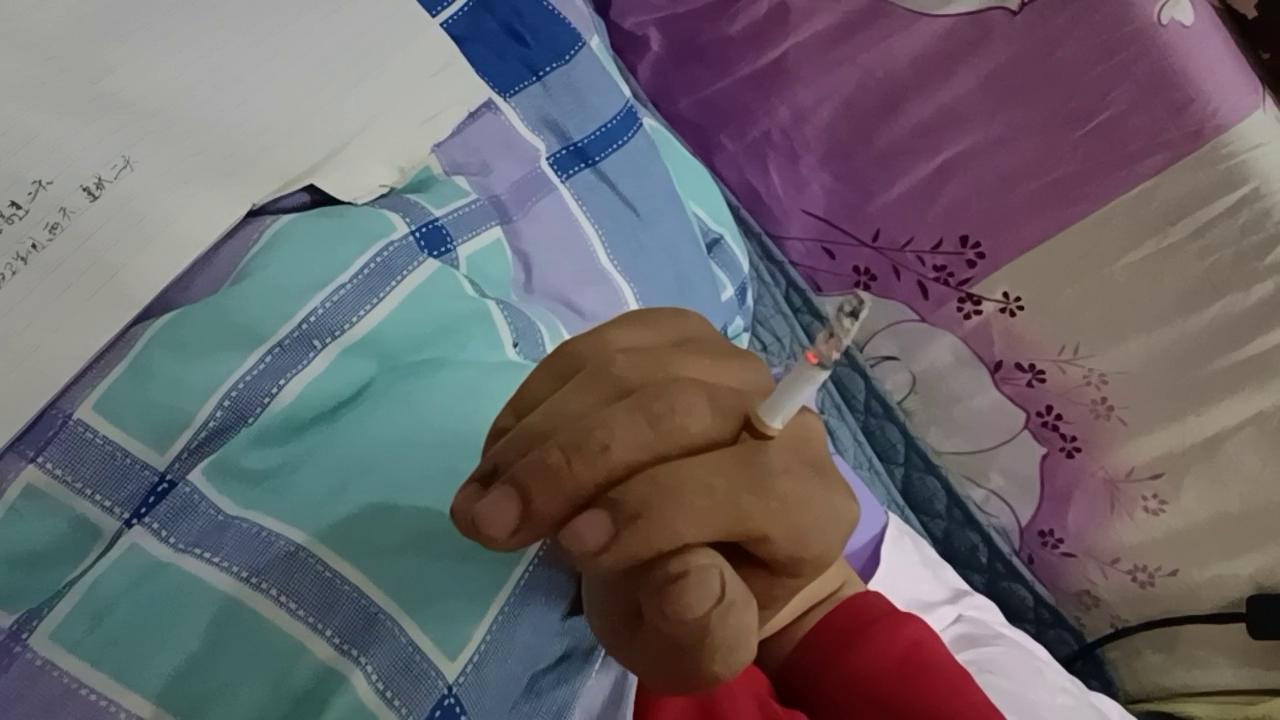smoke: (719, 287, 874, 486)
